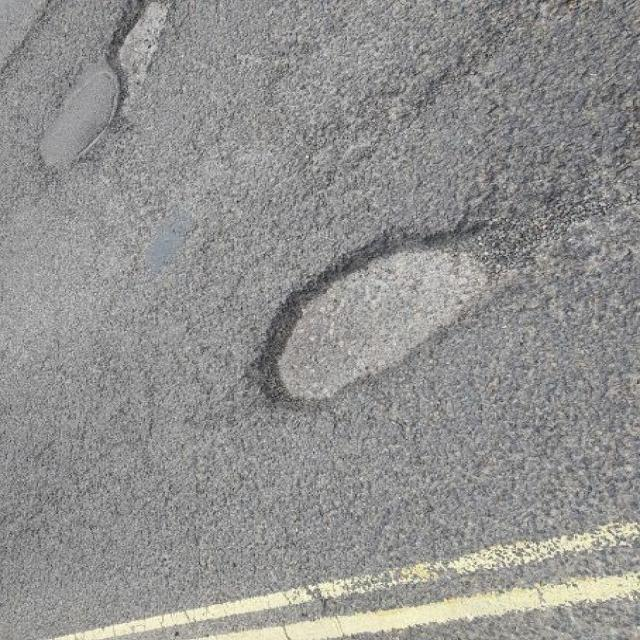Pothole: (244, 210, 540, 411), (100, 1, 188, 93)
